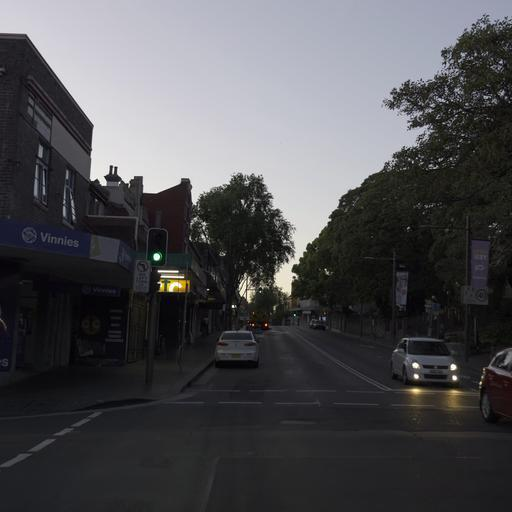Street light: (405, 214, 471, 360), (142, 226, 168, 387), (361, 248, 396, 344), (146, 226, 168, 267)
